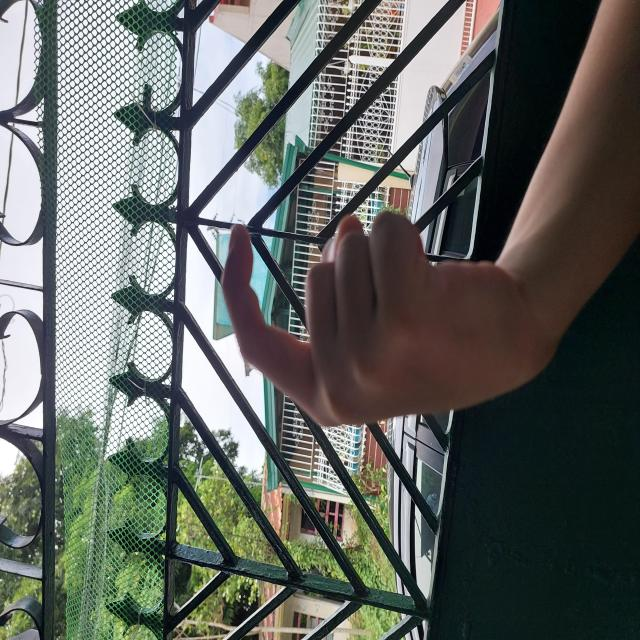X: (210, 219, 437, 543)
